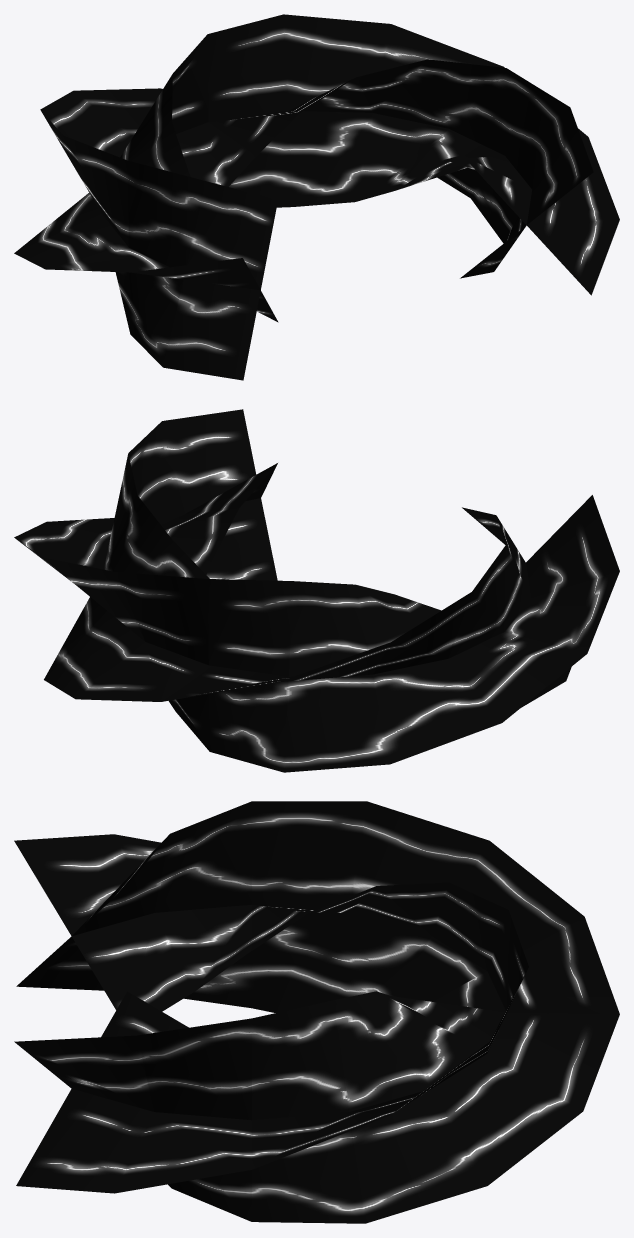
File: eff_Mebius01.fbx
The picture shows the model from 3 angles, top to bottom: view 1: azimuth 30°, elevation 25°; view 2: azimuth 150°, elevation 25°; view 3: azimuth 270°, elevation 25°; orthographic projection. The views are drawn at different scales.
Parts seen in each view (by area): view 1: eff_Mebius01_msh; view 2: eff_Mebius01_msh; view 3: eff_Mebius01_msh.
Part boxes in pixels (x1,y1,x2,y2): eff_Mebius01_msh: (14,14,619,380); eff_Mebius01_msh: (14,409,619,772); eff_Mebius01_msh: (14,801,619,1223).
Size of the model in its own units: 13 by 4 by 10.7.
